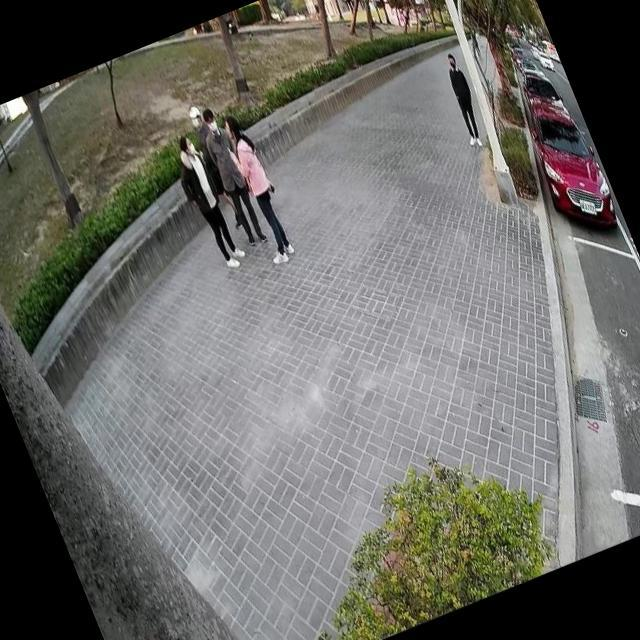person: (210, 104, 304, 270), (160, 123, 250, 277), (190, 100, 272, 250), (429, 45, 494, 153), (178, 98, 232, 194)
